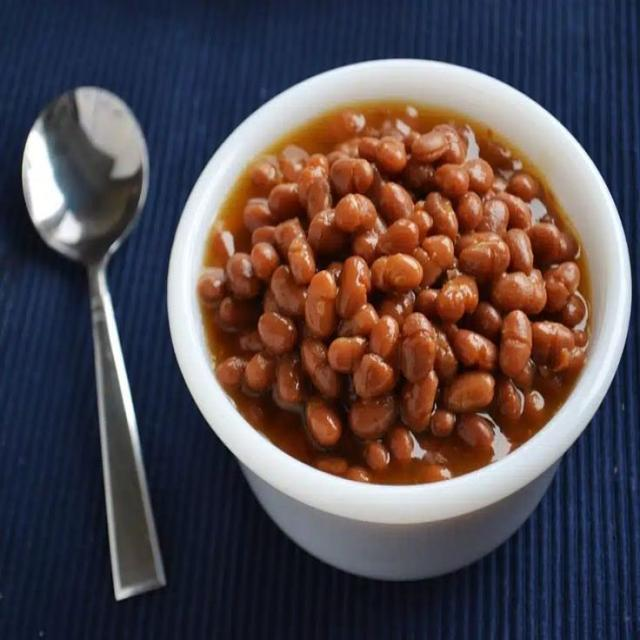beans: (197, 106, 588, 483), (459, 233, 510, 282), (492, 269, 546, 314), (400, 314, 435, 382), (301, 339, 340, 398), (401, 372, 438, 432), (349, 395, 397, 440), (305, 271, 337, 338), (500, 310, 532, 376), (336, 257, 371, 317), (443, 372, 494, 413), (414, 235, 454, 285), (436, 275, 478, 322), (532, 322, 574, 366), (453, 330, 498, 371), (354, 353, 395, 398), (308, 209, 347, 255), (306, 398, 342, 447), (271, 266, 306, 316), (330, 157, 373, 196), (545, 263, 579, 312), (335, 193, 376, 233), (299, 166, 331, 217), (259, 313, 297, 355), (275, 353, 304, 408), (425, 192, 458, 240), (216, 297, 259, 332), (495, 191, 532, 230), (327, 336, 366, 373), (378, 220, 419, 255), (384, 254, 422, 291), (378, 182, 413, 222), (528, 223, 562, 264), (339, 303, 378, 337), (434, 328, 458, 383), (370, 316, 399, 361), (457, 414, 493, 450), (268, 183, 302, 221), (433, 125, 466, 164), (471, 301, 502, 342), (505, 229, 533, 274), (288, 238, 315, 284), (245, 352, 275, 392), (434, 164, 469, 198), (412, 130, 448, 163), (477, 199, 509, 236), (275, 218, 305, 256), (455, 232, 502, 256), (401, 157, 434, 191), (496, 378, 523, 419), (251, 242, 279, 281), (197, 267, 225, 306), (251, 156, 282, 191), (376, 137, 406, 173), (329, 111, 366, 140), (456, 191, 482, 232), (279, 145, 308, 181), (465, 158, 493, 195), (244, 198, 274, 231), (216, 357, 246, 389), (352, 230, 379, 265), (410, 201, 433, 242), (387, 426, 413, 462), (481, 140, 513, 169), (507, 172, 539, 201), (526, 269, 546, 314), (560, 294, 586, 327), (554, 348, 586, 373), (211, 230, 234, 264), (364, 442, 390, 470), (415, 289, 438, 319), (380, 119, 411, 141), (513, 359, 535, 390), (430, 409, 455, 436), (419, 463, 452, 483), (524, 391, 545, 419), (559, 233, 579, 262), (316, 457, 348, 475), (252, 225, 276, 247), (371, 257, 387, 290), (239, 331, 264, 352), (359, 137, 379, 162), (335, 138, 359, 158), (262, 288, 281, 312), (307, 154, 329, 174), (486, 175, 506, 196), (327, 150, 348, 170), (345, 466, 370, 482), (442, 323, 459, 342), (327, 261, 342, 282), (374, 216, 387, 236), (574, 331, 588, 347)
